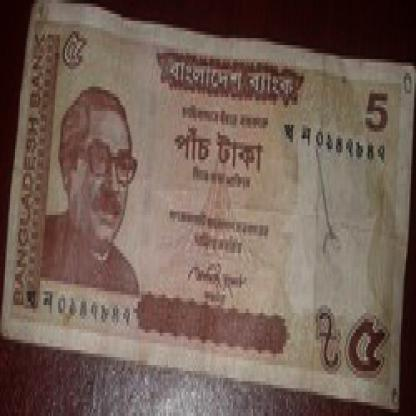Five Taka: (172, 125, 266, 177), (346, 308, 386, 392), (58, 21, 87, 76), (366, 83, 391, 135)
